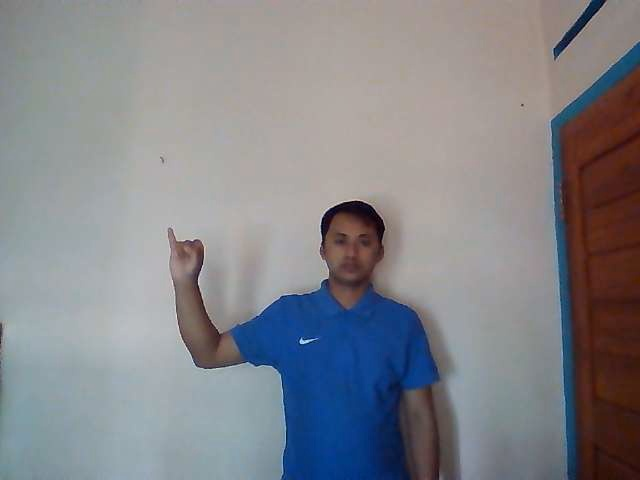I: (165, 225, 207, 282)
